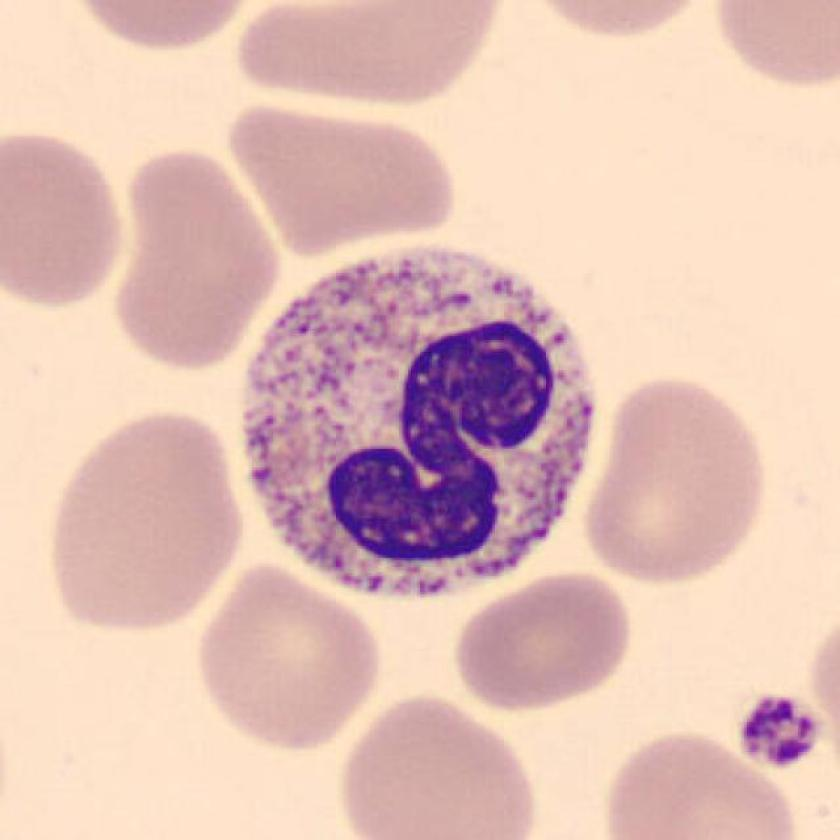neutrophil: (244, 249, 592, 593)
